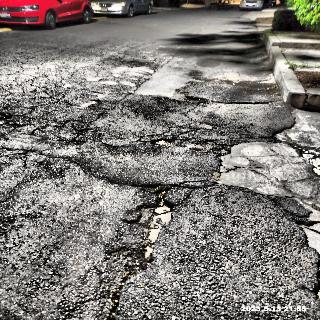alligator-crack: (1, 58, 99, 144), (0, 180, 67, 295), (144, 119, 231, 156)
crack: (185, 93, 281, 108)
pothole: (89, 179, 189, 320)
